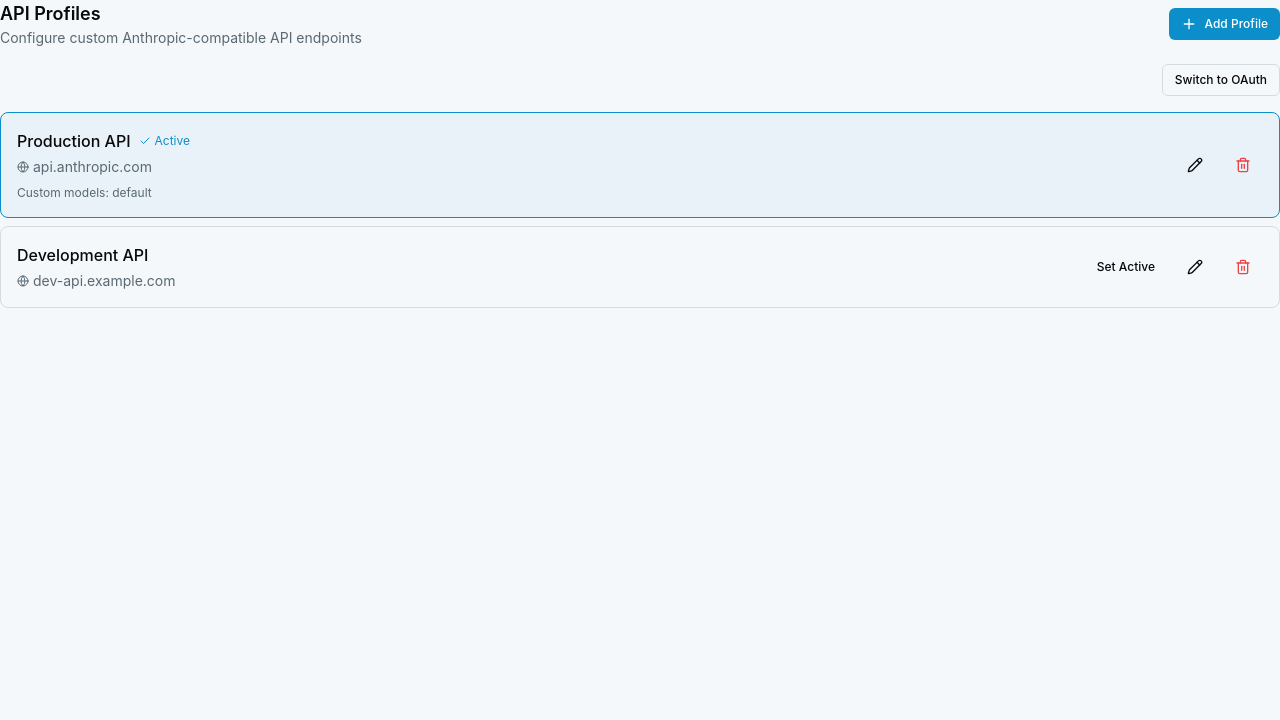
ProfileList - Delete Confirmation Dialog › should show delete confirmation dialog with profile name
// Click delete button on first profile (find by test id)
Click the button with test id "profile-delete-button-profile-1" at (1243, 165), box [1223, 149, 1263, 181]
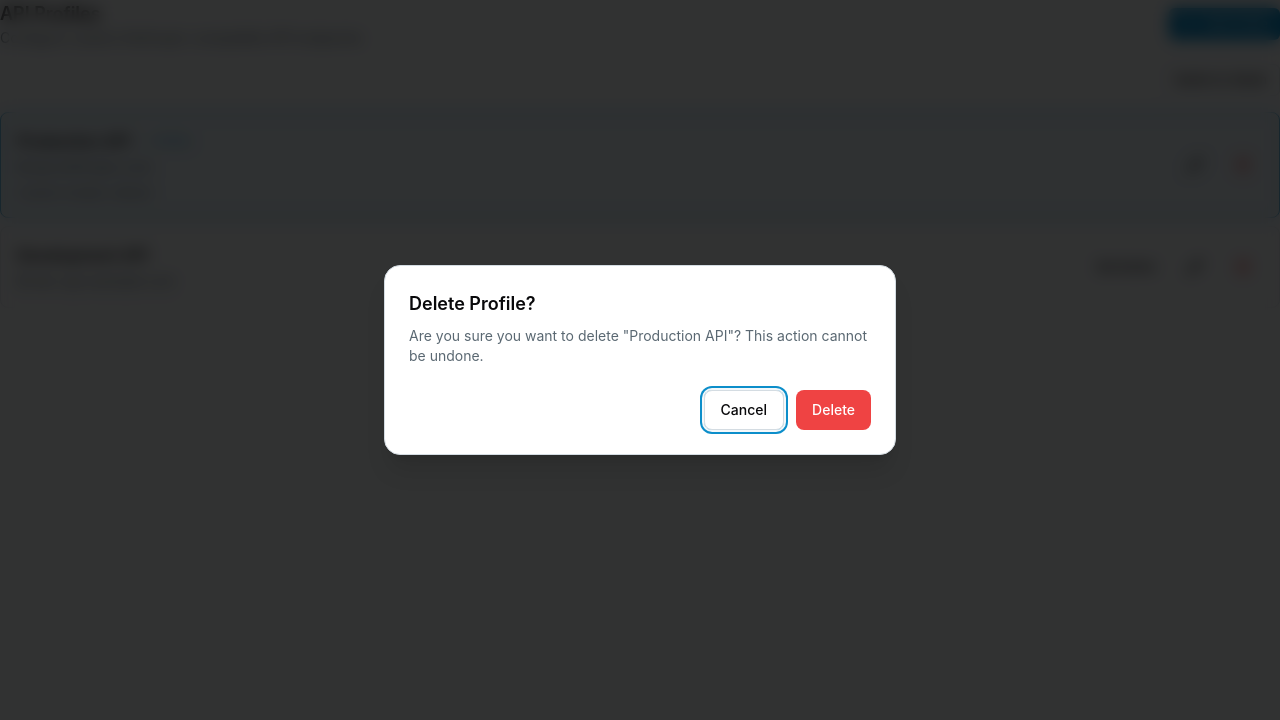
Check: the heading "Delete Profile?" is shown, box [409, 293, 536, 314]
Check: the text "Are you sure you want to delete \"Production API\"?" is shown, box [409, 326, 871, 366]
Check: the button "Cancel" is shown, box [704, 390, 784, 430]
